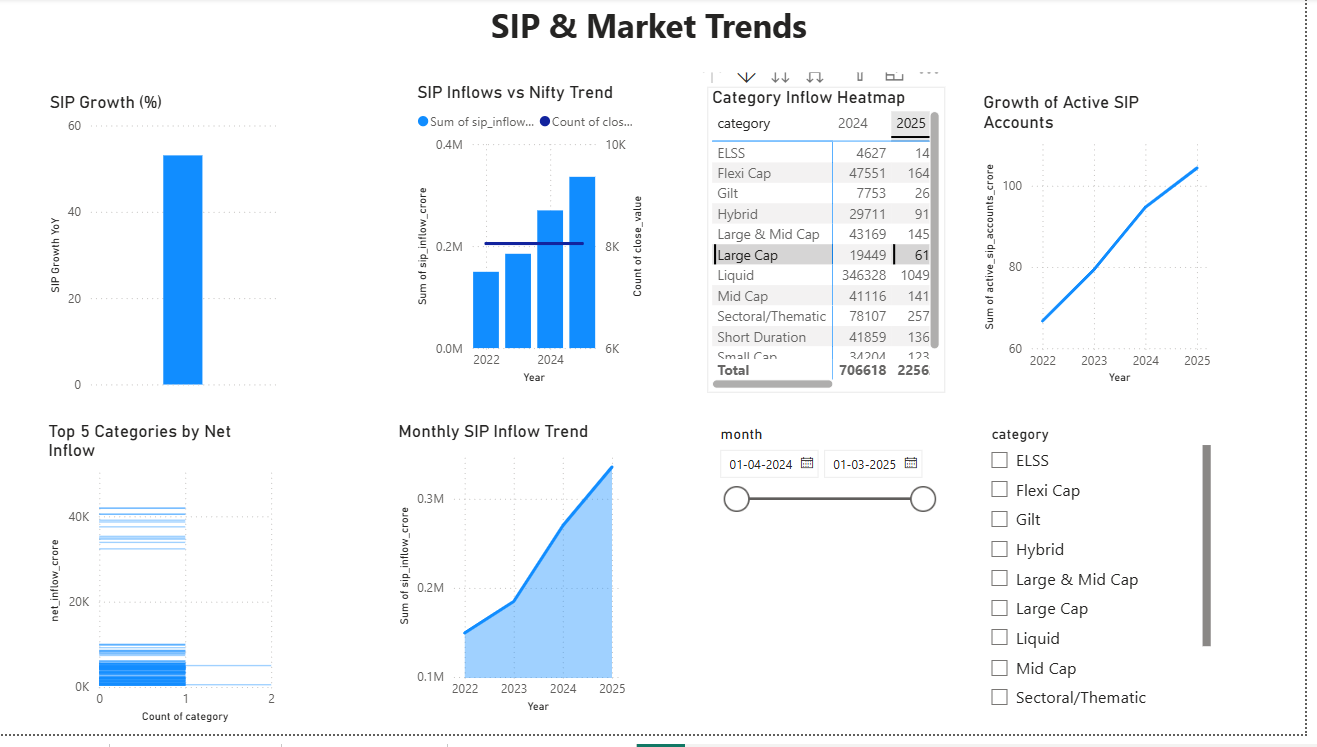

What the dashboard file says about the page in this screenshot:
{"tool":"powerbi","page":{"name":"SIP & Market Trends","canvas":[1280,720],"ordinal":3},"visuals":[{"type":"clusteredColumnChart","title":"SIP Growth (%)","fields":{"Y":["alpha_beta.SIP Growth YoY"]},"box":[0,58.7,232.3,300.8],"z":0},{"type":"lineClusteredColumnComboChart","title":"SIP Inflows vs Nifty Trend","fields":{"Category":["clean_sip.month.Variation.Date Hierarchy.Year","clean_sip.month.Variation.Date Hierarchy.Quarter","clean_sip.month.Variation.Date Hierarchy.Month","clean_sip.month.Variation.Date Hierarchy.Day"],"Y":["Sum(clean_sip.sip_inflow_crore)"],"Y2":["CountNonNull(clean_benchmark.close_value)"]},"box":[295.9,86.8,232.3,300.8],"z":1},{"type":"pivotTable","fields":{"Rows":["clean_category_inflows.category"],"Columns":["clean_category_inflows.month.Variation.Date Hierarchy.Year","clean_category_inflows.month.Variation.Date Hierarchy.Quarter","clean_category_inflows.month.Variation.Date Hierarchy.Month","clean_category_inflows.month.Variation.Date Hierarchy.Day"],"Values":["Sum(clean_category_inflows.net_inflow_crore)"]},"box":[547.8,86.8,232.3,300.8],"z":2}]}

Visuals, with their boxes in screenshot pixels (x1, y1, x2, y2), scaled from the page's 1280x720 canvas onto the 1317x747 screenshot:
"SIP Growth (%)" clusteredColumnChart: rect(0, 61, 239, 373)
"SIP Inflows vs Nifty Trend" lineClusteredColumnComboChart: rect(304, 90, 543, 402)
pivotTable - clean_category_inflows.category x clean_category_inflows.month.Variation.Date Hierarchy.Year: rect(564, 90, 803, 402)
